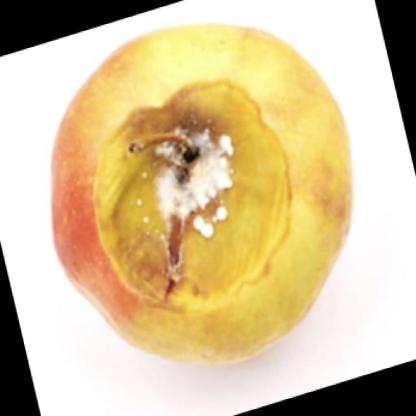defect: (91, 81, 295, 309)
